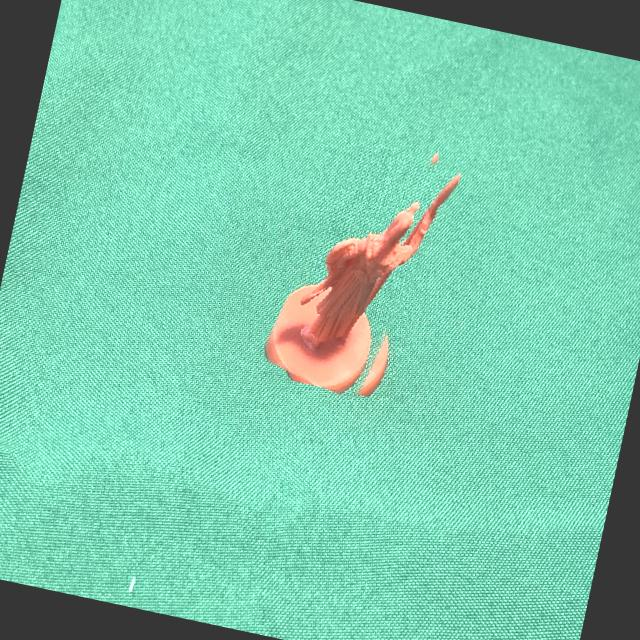amon_follower: (264, 173, 460, 395)
